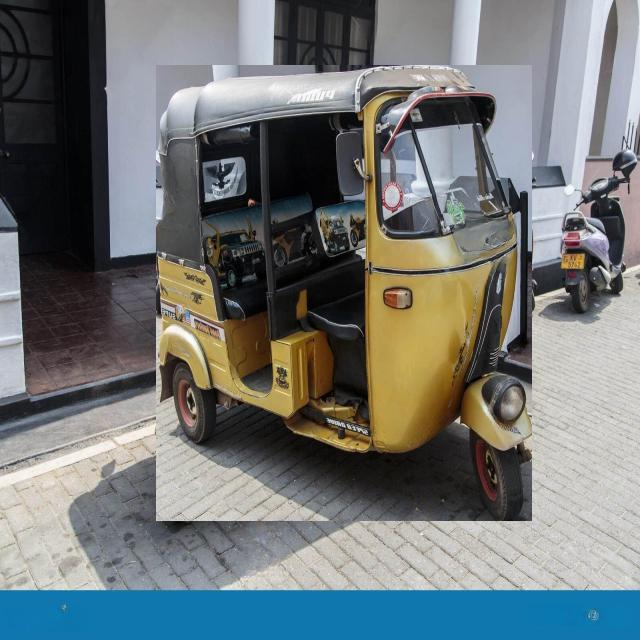autorickshaw: (156, 66, 532, 521)
motorcycle: (561, 149, 638, 313)
